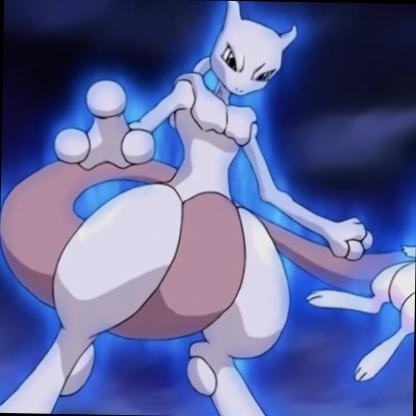Mewtwo: (1, 3, 416, 416), (1, 1, 416, 406)
